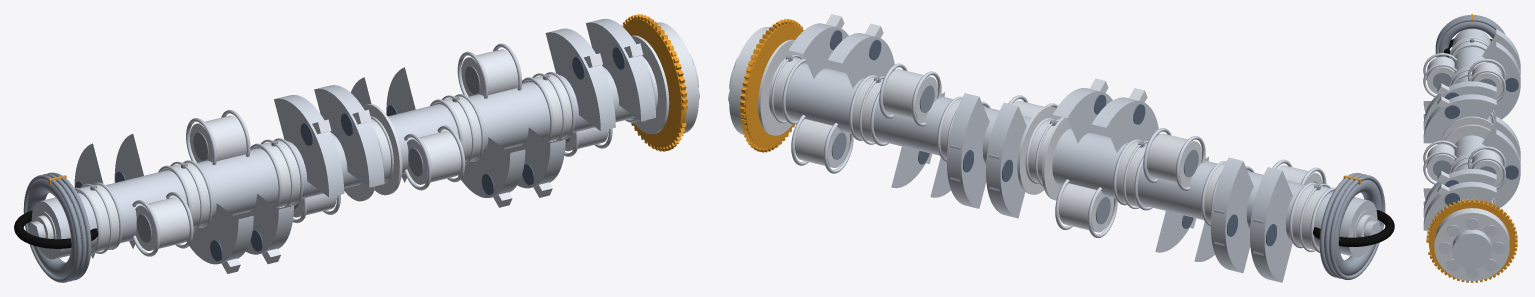
The model's file is crankshaft.glb.
3 views of the same model, side by side, from view 1: azimuth 30°, elevation 25°; view 2: azimuth 150°, elevation 25°; view 3: azimuth 270°, elevation 25° (orthographic). The views are drawn at different scales.
Parts seen in each view (by area): view 1: Crankshaft_Forged_Core_Shaft, Counterweight_Lobe_6 (×2), Counterweight_Lobe_3 (×2), Counterweight_Lobe_5 (×2), Counterweight_Lobe_2 (×2), 60_Minus_2_Crank_Reluctor_Trigger_Wheel, Crankpin_Journal_1, Crankpin_Journal_4, Counterweight_Lobe_1 (×2), Harmonic_Damper_Inertia_Ring, Crankpin_Journal_5, Crankpin_Journal_2 (+20 smaller); view 2: Crankshaft_Forged_Core_Shaft, Counterweight_Lobe_1 (×2), Counterweight_Lobe_4 (×2), Counterweight_Lobe_6 (×2), Counterweight_Lobe_3 (×2), 60_Minus_2_Crank_Reluctor_Trigger_Wheel, Crankpin_Journal_2, Crankpin_Journal_5, Crankpin_Journal_6, Crankpin_Journal_3, Harmonic_Damper_Inertia_Ring, Centrifugal_Rear_Oil_Flinger_Disc (+20 smaller); view 3: Crankshaft_Forged_Core_Shaft, Counterweight_Lobe_3 (×2), Rear_Flywheel_Mating_Flange, Counterweight_Lobe_6 (×2), Counterweight_Lobe_4 (×2), Counterweight_Lobe_1 (×2), 60_Minus_2_Crank_Reluctor_Trigger_Wheel, Harmonic_Damper_Inertia_Ring, Crankpin_Journal_2, Integrated_Thrust_Collar_Rear, Crankpin_Journal_5, Crankpin_Journal_4 (+41 smaller).
Boxes of the visible parts, x1,y1,x2,y2 form: Crankshaft_Forged_Core_Shaft: (31,62,698,259); Counterweight_Lobe_6 (×2): (545,18,655,130); Counterweight_Lobe_3 (×2): (274,85,384,197); Counterweight_Lobe_5 (×2): (458,127,565,197); Counterweight_Lobe_2 (×2): (186,194,293,264); 60_Minus_2_Crank_Reluctor_Trigger_Wheel: (623,19,686,147); Crankpin_Journal_1: (135,197,189,250); Crankpin_Journal_4: (407,131,461,184); Counterweight_Lobe_1 (×2): (74,134,143,258); Harmonic_Damper_Inertia_Ring: (26,180,86,278); Crankpin_Journal_5: (461,49,518,96); Crankpin_Journal_2: (190,115,246,162); Crankshaft_Forged_Core_Shaft: (729,63,1377,257); Counterweight_Lobe_1 (×2): (1210,157,1292,282); Counterweight_Lobe_4 (×2): (946,93,1026,218); Counterweight_Lobe_6 (×2): (789,23,895,88); Counterweight_Lobe_3 (×2): (1052,88,1159,152); 60_Minus_2_Crank_Reluctor_Trigger_Wheel: (741,23,802,148); Crankpin_Journal_2: (1147,133,1201,185); Crankpin_Journal_5: (883,69,937,120); Crankpin_Journal_6: (795,119,849,167); Crankpin_Journal_3: (1059,183,1113,232); Harmonic_Damper_Inertia_Ring: (1324,180,1382,275); Centrifugal_Rear_Oil_Flinger_Disc: (758,39,804,135); Crankshaft_Forged_Core_Shaft: (1452,29,1491,269); Counterweight_Lobe_3 (×2): (1423,81,1496,143); Rear_Flywheel_Mating_Flange: (1434,208,1509,281); Counterweight_Lobe_6 (×2): (1423,169,1496,230); Counterweight_Lobe_4 (×2): (1482,116,1520,207); Counterweight_Lobe_1 (×2): (1482,29,1520,121); 60_Minus_2_Crank_Reluctor_Trigger_Wheel: (1428,200,1515,279); Harmonic_Damper_Inertia_Ring: (1439,21,1496,57); Crankpin_Journal_2: (1471,62,1502,99); Integrated_Thrust_Collar_Rear: (1443,124,1490,147); Crankpin_Journal_5: (1471,150,1502,186); Crankpin_Journal_4: (1427,144,1454,181).
Bounding box in the file's own units: 0.792 × 0.1519 × 0.1524.
